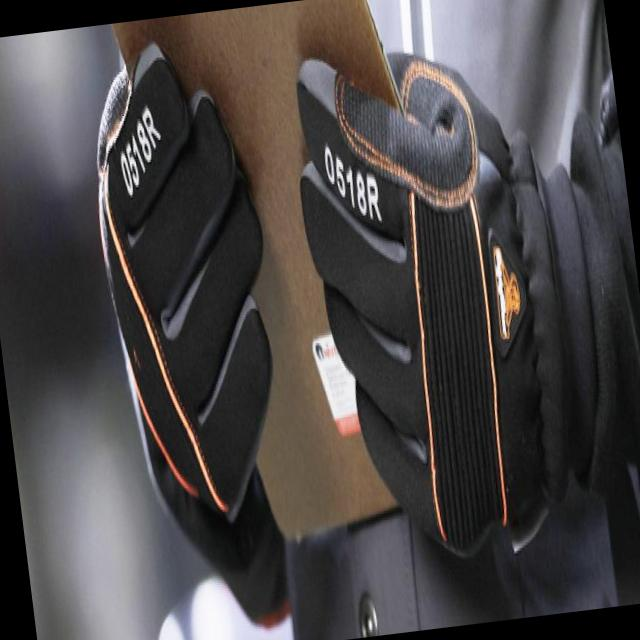Gloves: (285, 0, 595, 594), (62, 41, 305, 551)
